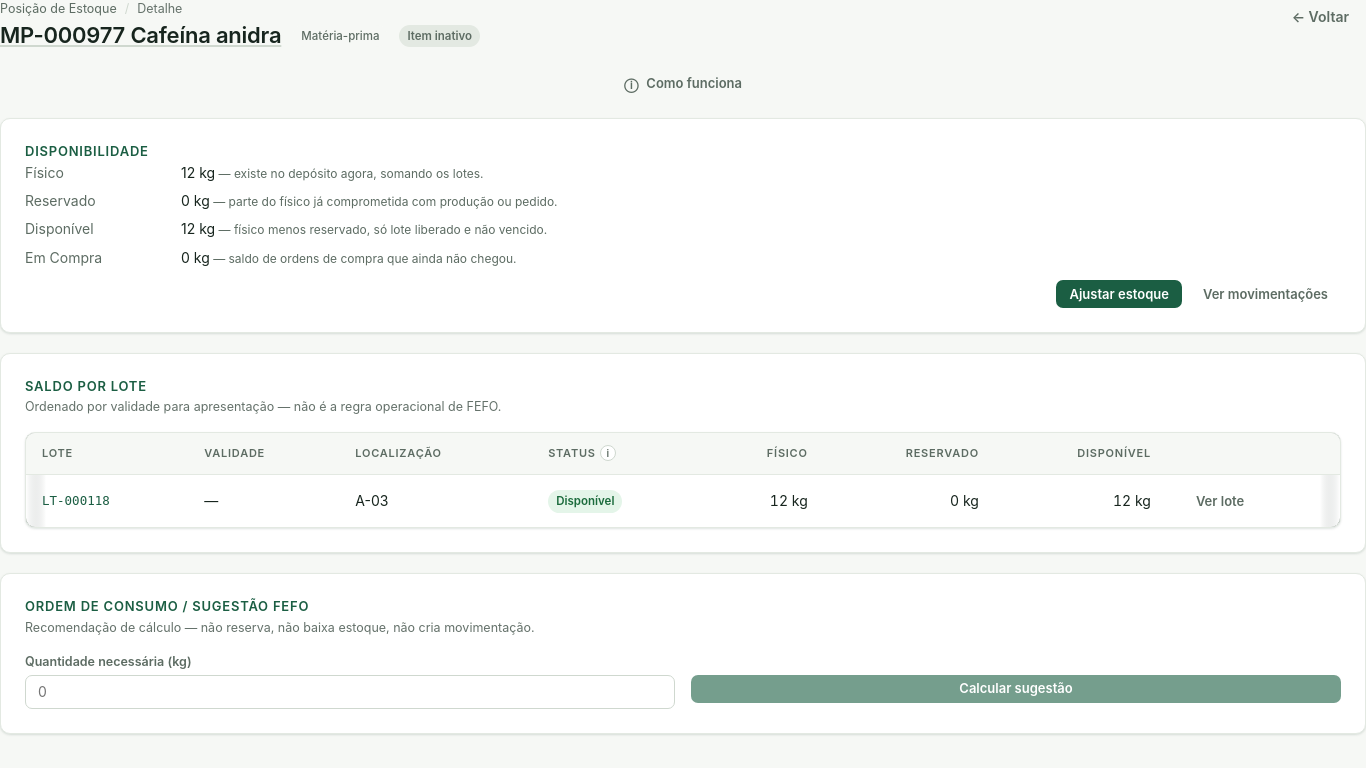
Test: Estoque — detalhe do item › marca o inativo e mantém os lotes; o ajuste não oferece entrada manual
Expected: the text "LT-000118" is shown, left=26, top=475, right=188, bottom=527
Click the button "Ajustar estoque" at (1119, 294), box left=1056, top=280, right=1182, bottom=308
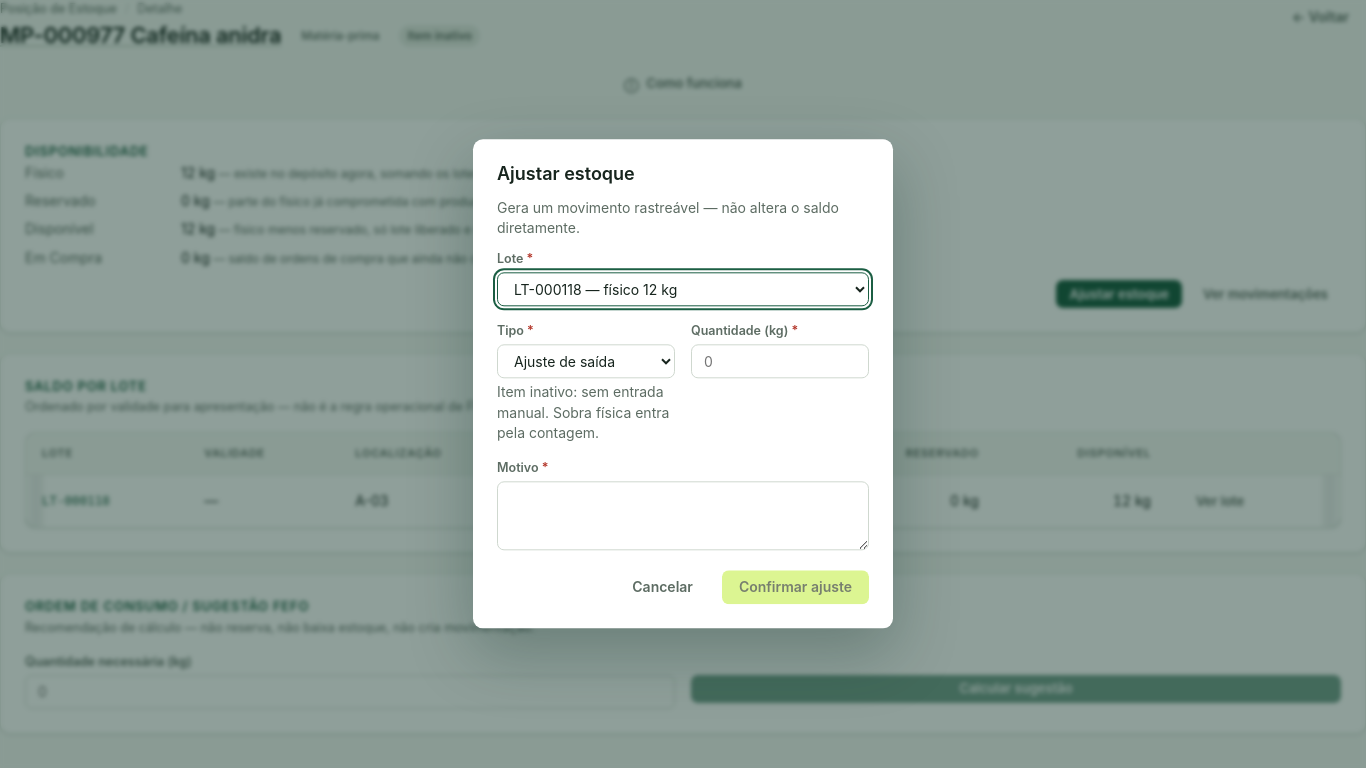
Now the dropdown labelled "Tipo *" shows "Ajuste de saída", box left=497, top=345, right=675, bottom=379
Now the text "Item inativo: sem entrada manual. Sobra física entra pela contagem." is shown, box left=497, top=383, right=675, bottom=444
